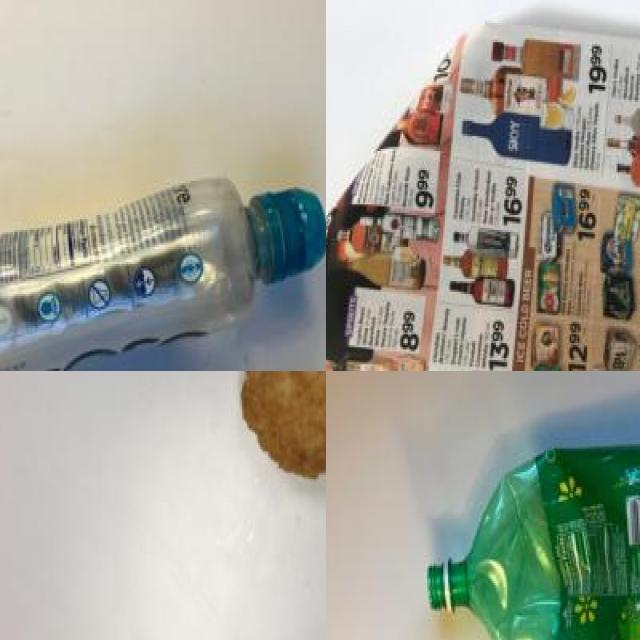compost: (230, 371, 326, 497)
paper: (326, 28, 640, 371)
plastic: (0, 171, 326, 371), (419, 428, 640, 640)
